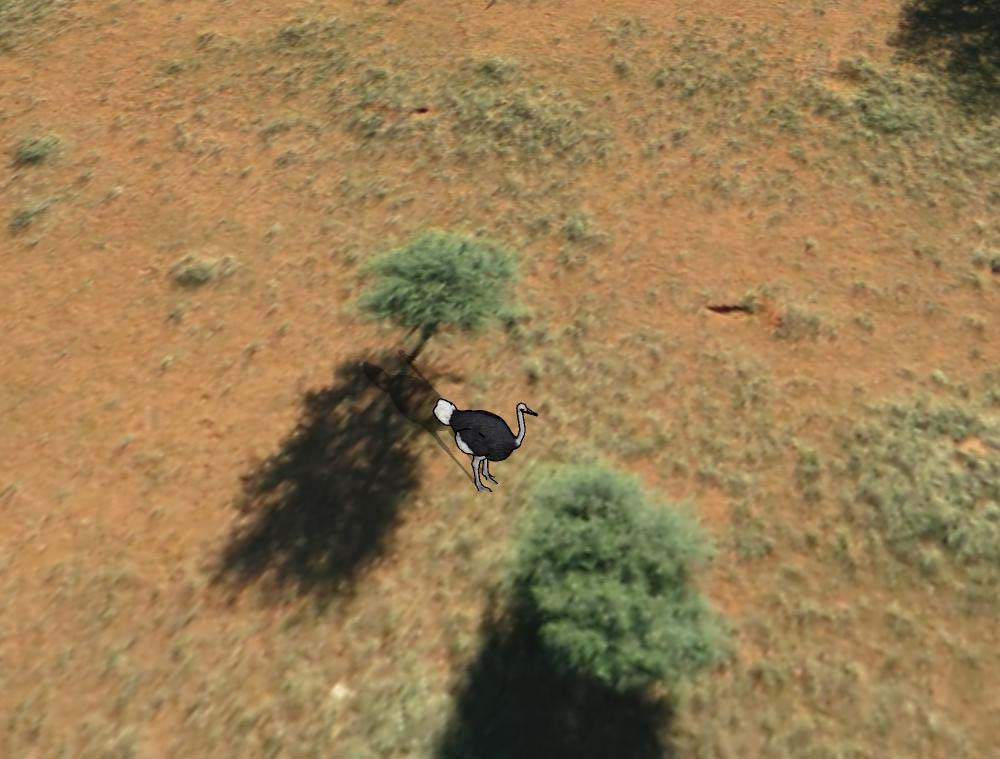ostrich: (434, 386, 539, 500)
